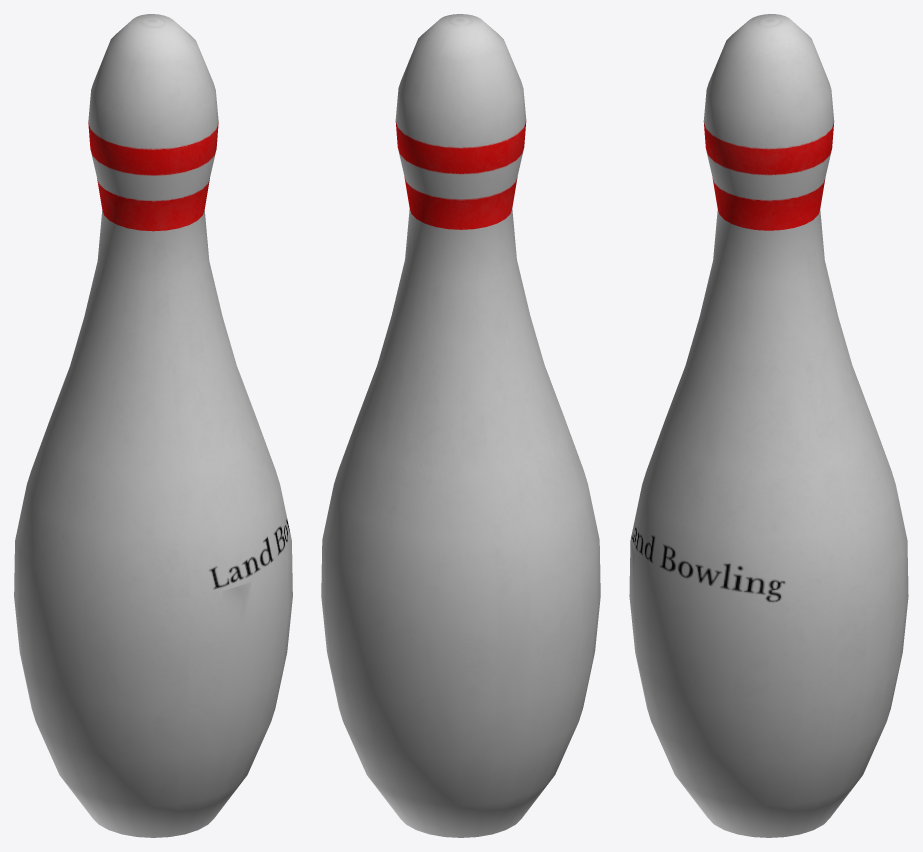
Rendered from pin.fbx.
The picture shows the model from 3 angles, left to right: view 1: azimuth 30°, elevation 25°; view 2: azimuth 150°, elevation 25°; view 3: azimuth 270°, elevation 25°; orthographic projection.
Visible parts, largest first — view 1: Empty_Mesh; view 2: Empty_Mesh; view 3: Empty_Mesh.
Boxes of the visible parts, x1,y1,x2,y2 form: Empty_Mesh: (14, 14, 292, 837); Empty_Mesh: (321, 14, 600, 837); Empty_Mesh: (629, 14, 908, 837).
Bounding box in the file's own units: 32.72 × 104 × 32.72.
